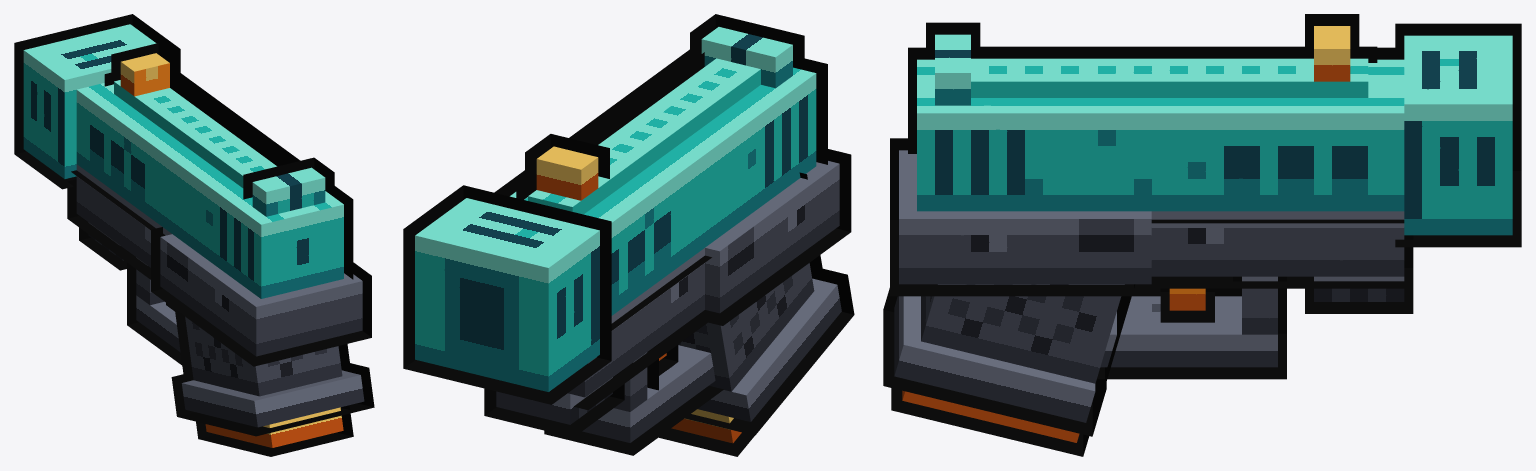
The model's file is pistol.glb.
3 renders of one model, left to right at view 1: azimuth 30°, elevation 25°; view 2: azimuth 150°, elevation 25°; view 3: azimuth 270°, elevation 25°, orthographic. The views are drawn at different scales.
Visible parts, largest first — view 1: Body, Slide, Magazine; view 2: Body, Slide, Magazine; view 3: Body, Slide, Magazine, Trigger.
Part boxes in pixels (x1,y1,x2,y2): Body: (14,14,374,436); Slide: (71,43,353,298); Magazine: (196,405,353,456); Body: (403,149,854,455); Slide: (494,14,827,330); Magazine: (659,409,754,456); Body: (883,23,1521,436); Slide: (908,14,1404,223); Magazine: (891,379,1097,456); Trigger: (1160,288,1214,322).
Size of the model in its own units: 0.625 by 1.53 by 2.21.
Materials: 1 (1 with a texture image).
